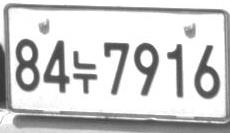1: (164, 44, 191, 97)
4: (43, 39, 69, 93)
6: (193, 44, 220, 98)
7: (103, 42, 129, 95)
8: (14, 38, 41, 92)
9: (133, 42, 160, 96)
누: (72, 50, 97, 94)
